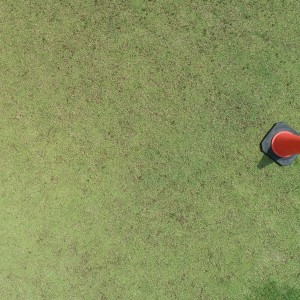traffic cone: (260, 122, 300, 166)
